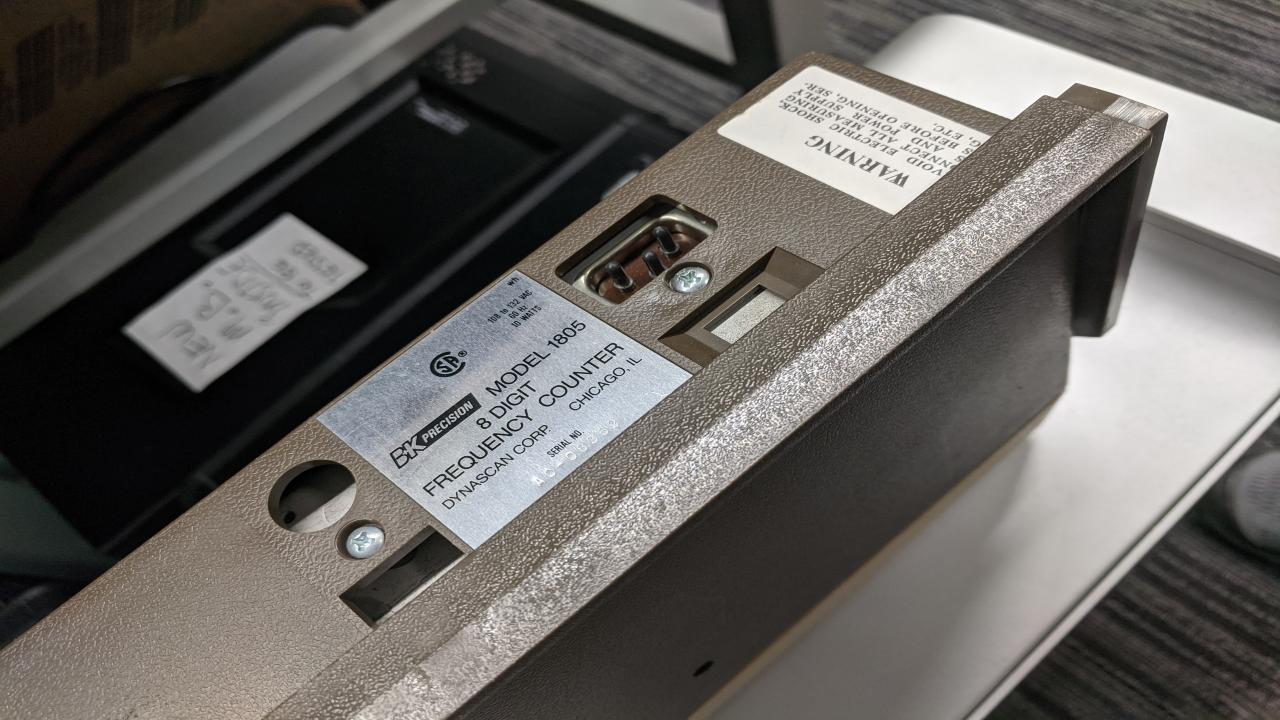CRS: (339, 521, 388, 562), (661, 262, 718, 296)
